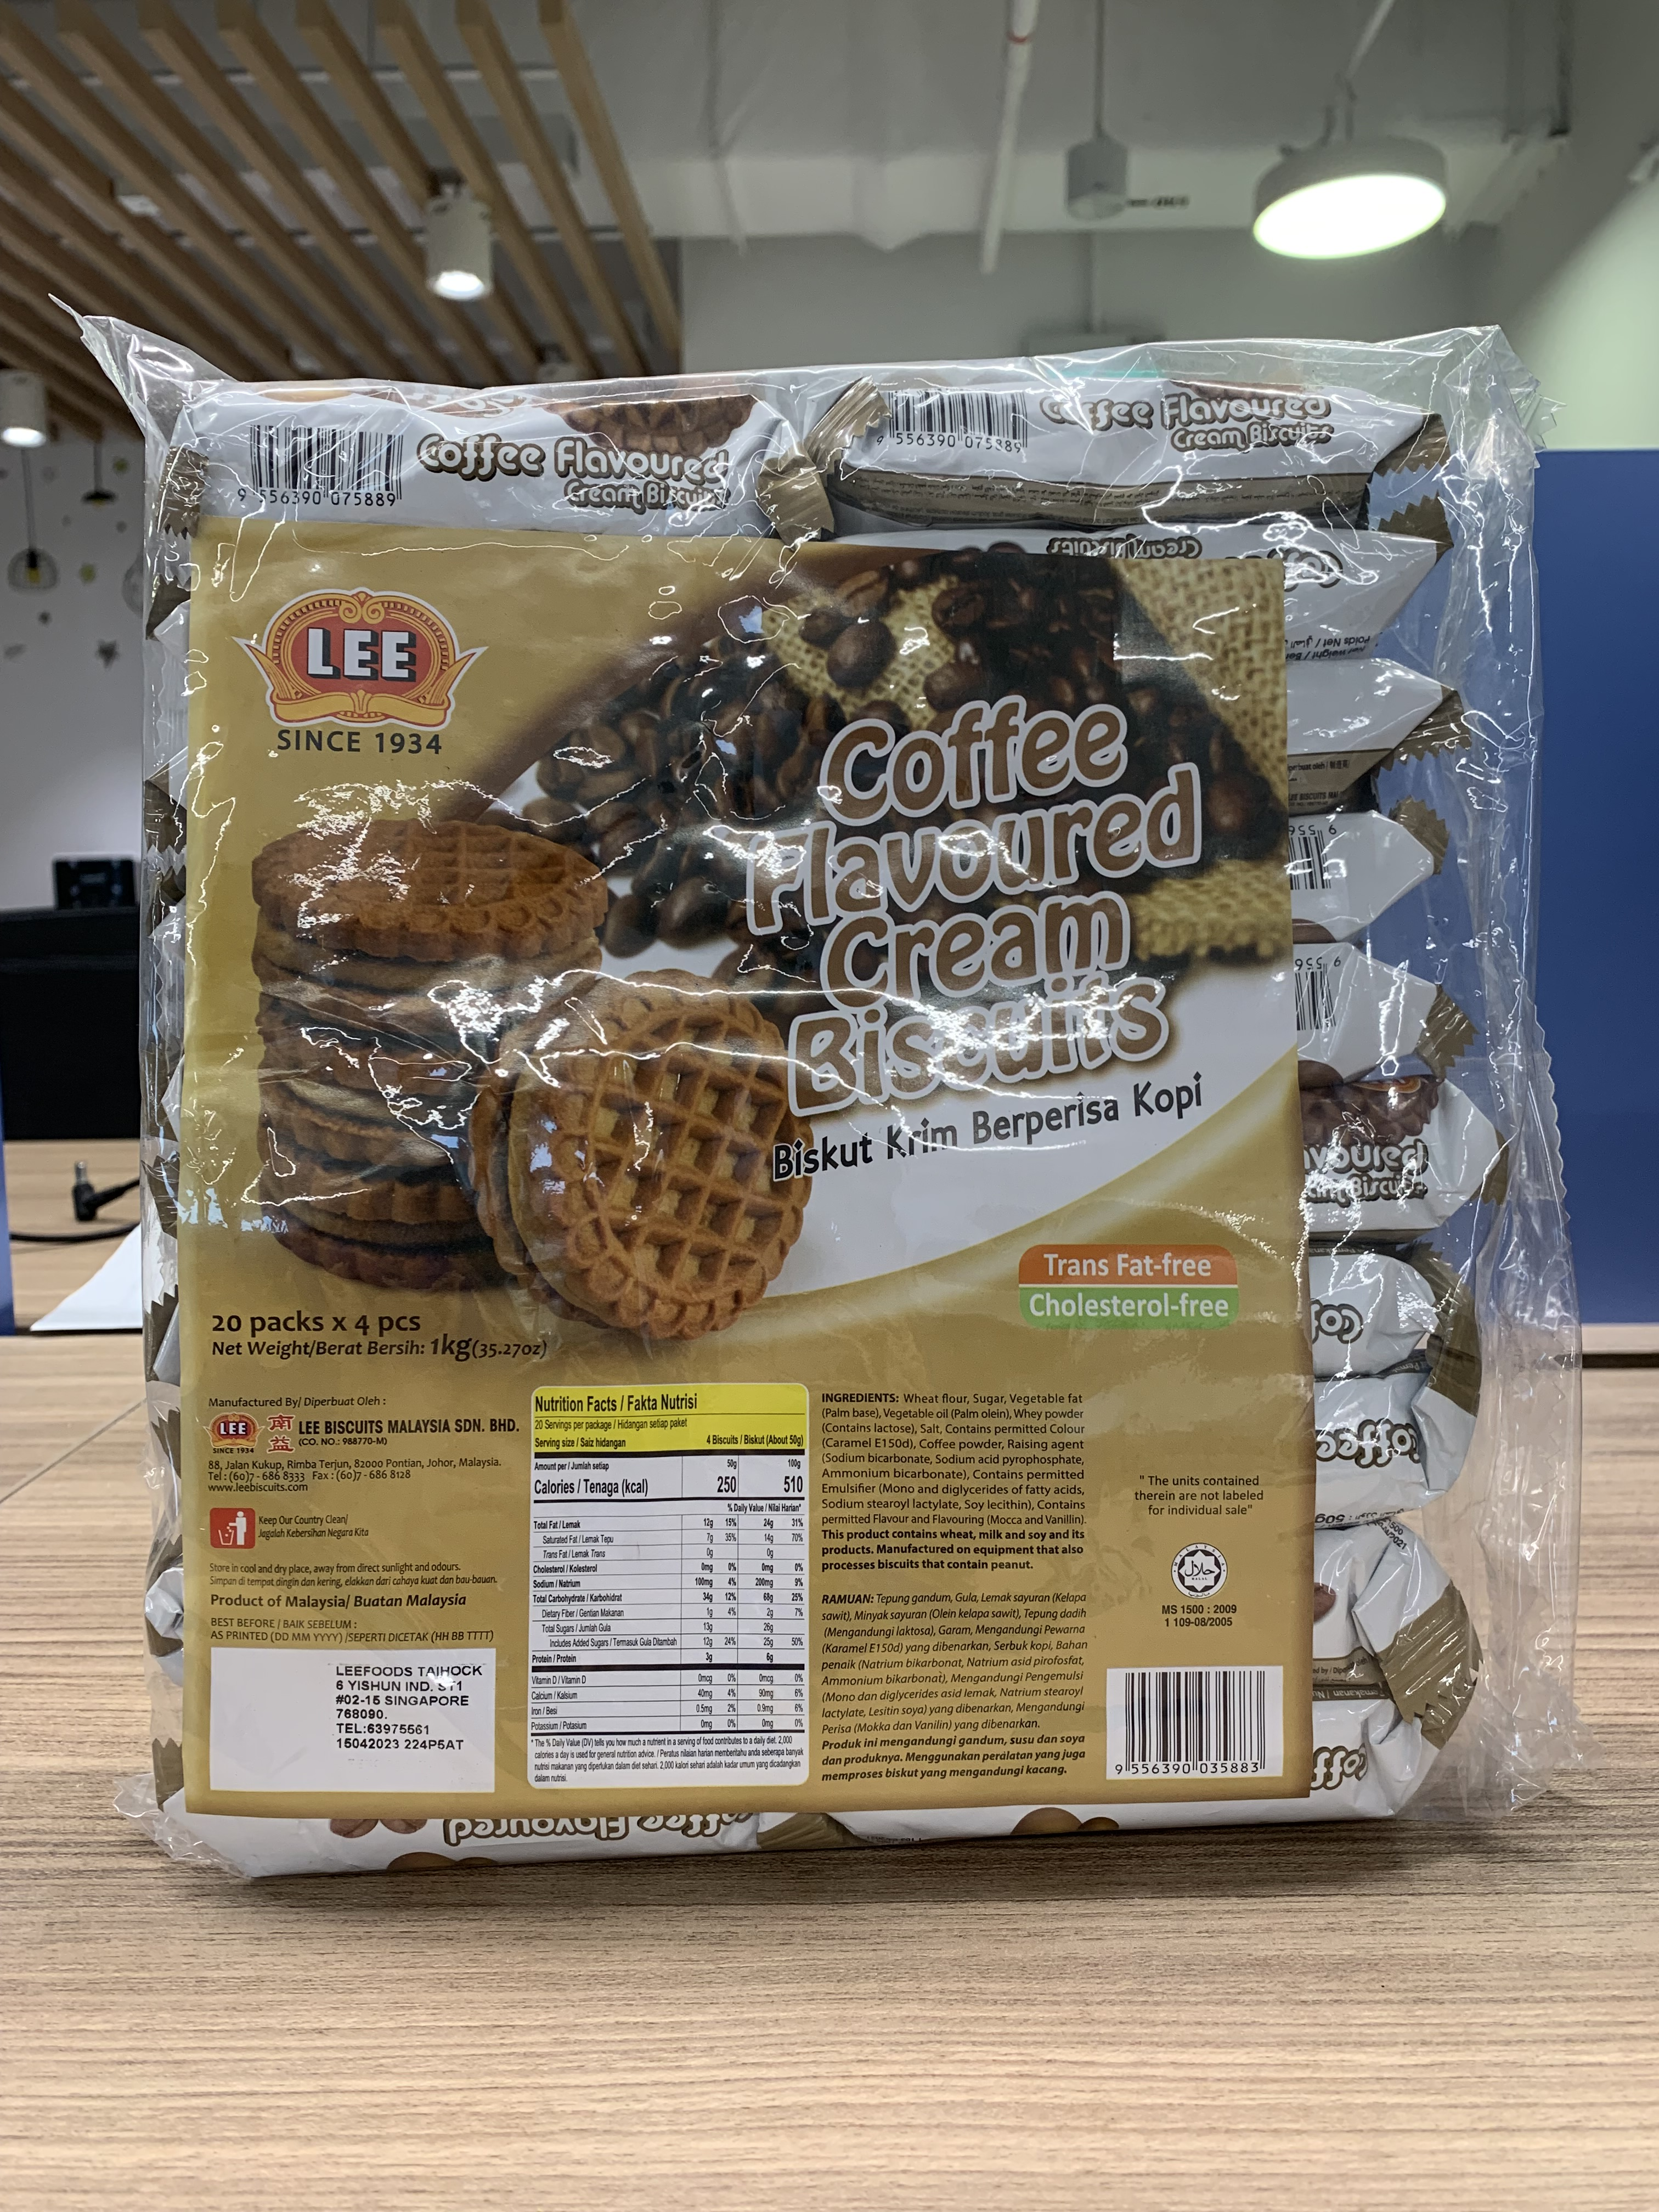cookies_1kg-1.99kg: (155, 380, 1495, 1818)
